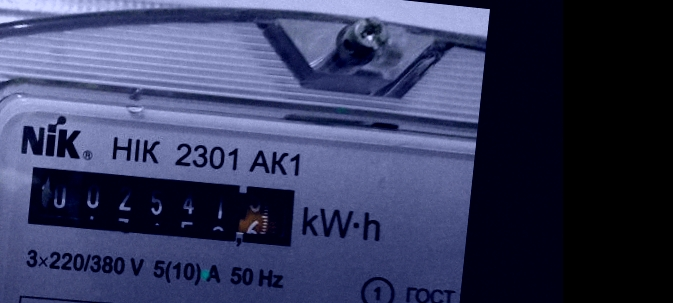0: (82, 177, 104, 212), (51, 180, 70, 210)
1: (209, 187, 229, 221)
2: (112, 179, 137, 215)
4: (178, 185, 199, 217)
5: (146, 185, 165, 218)
6: (243, 214, 261, 237)
screen: (10, 147, 318, 267)
